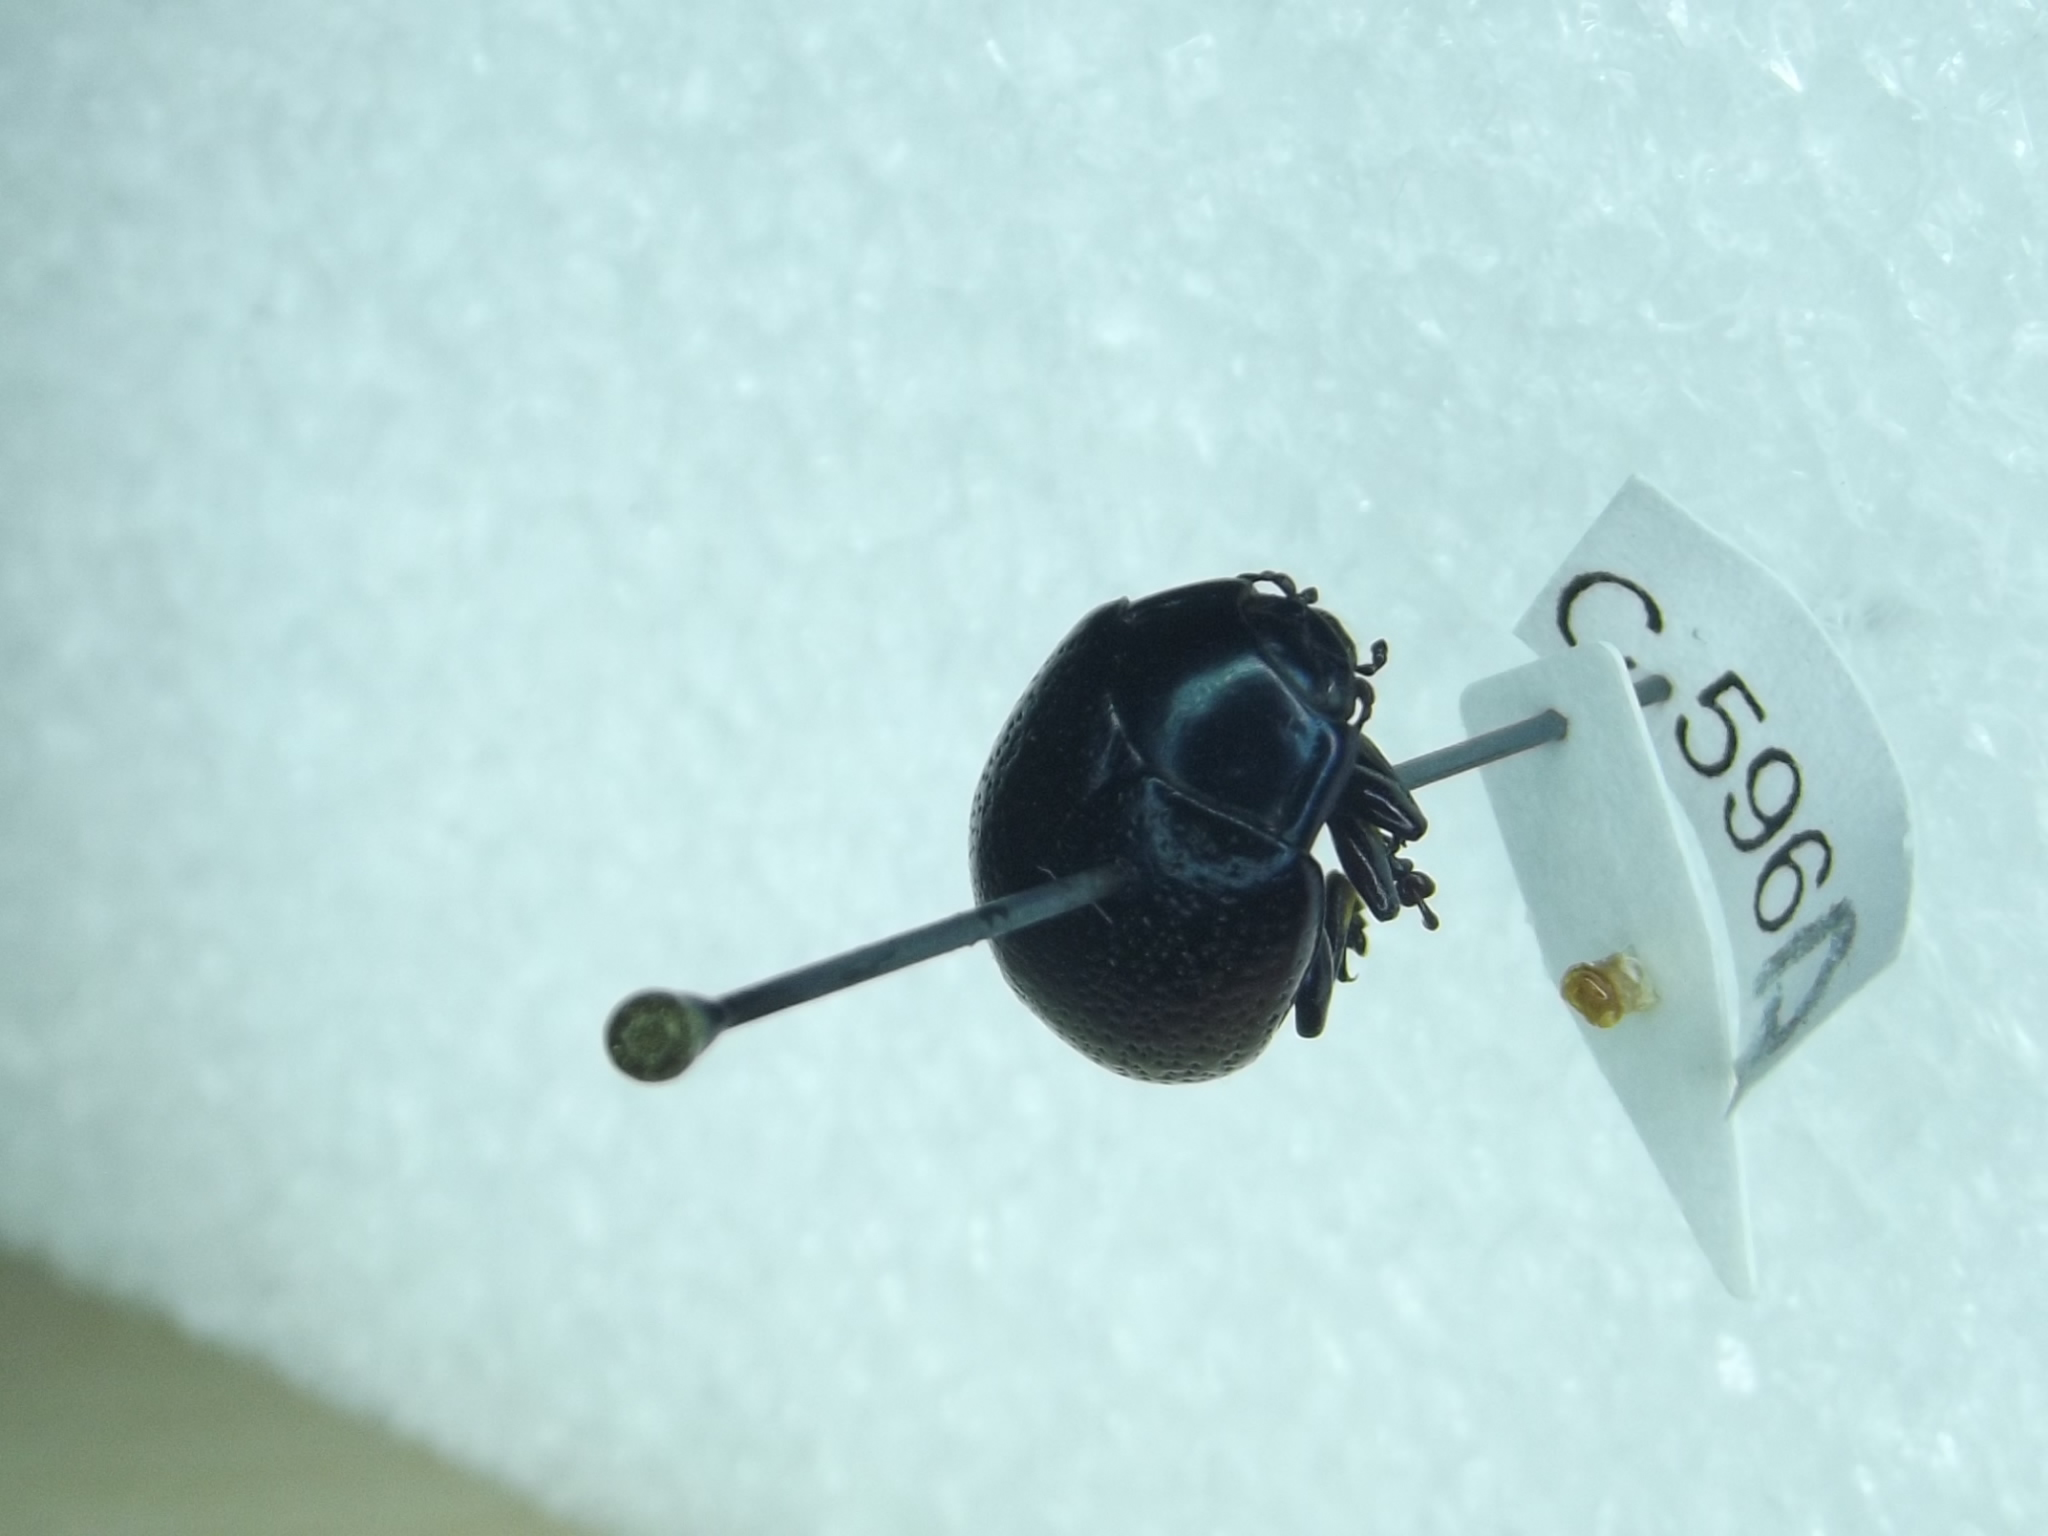Chrysolina_oricalcia: (955, 566, 1458, 1094)
